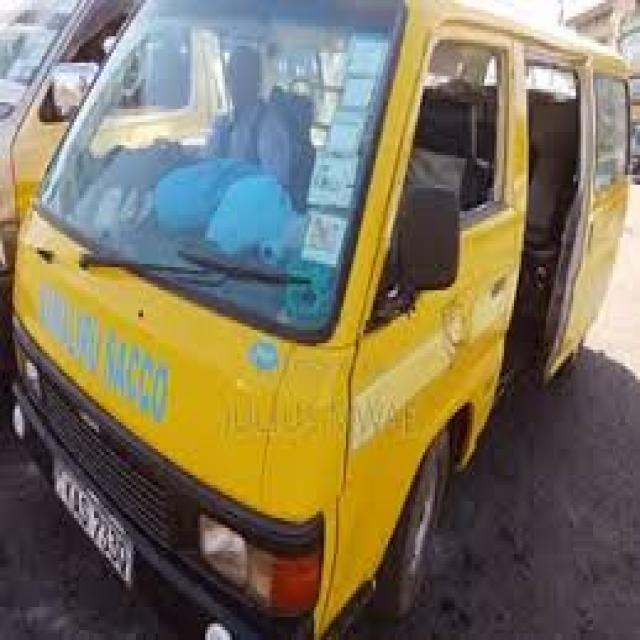matatu: (5, 3, 640, 640)
